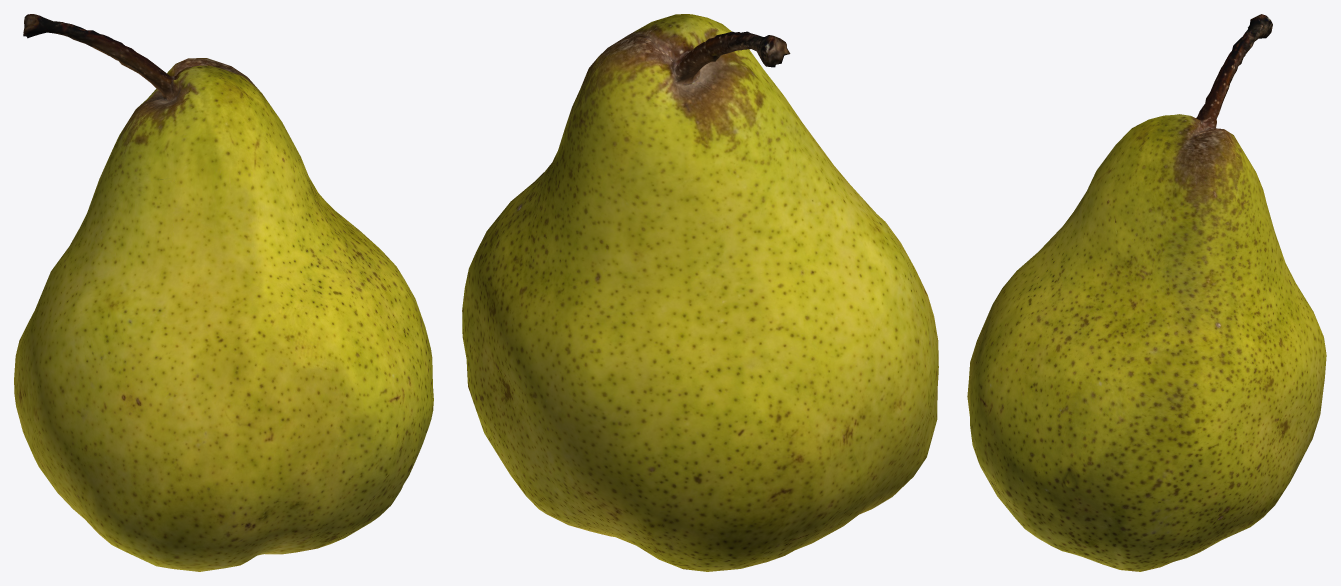
File: pear_2.glb
3 views of the same model, side by side, from view 1: azimuth 30°, elevation 25°; view 2: azimuth 150°, elevation 25°; view 3: azimuth 270°, elevation 25° (orthographic). The views are drawn at different scales.
Parts seen in each view (by area): view 1: Pear - Photoscan; view 2: Pear - Photoscan; view 3: Pear - Photoscan.
Part boxes in pixels (<box>): Pear - Photoscan: <box>14,14,433,571</box>; Pear - Photoscan: <box>462,14,938,571</box>; Pear - Photoscan: <box>967,14,1326,571</box>.
Size of the model in its own units: 0.0625 by 0.0821 by 0.0582.
Materials: 1 (1 with a texture image).
